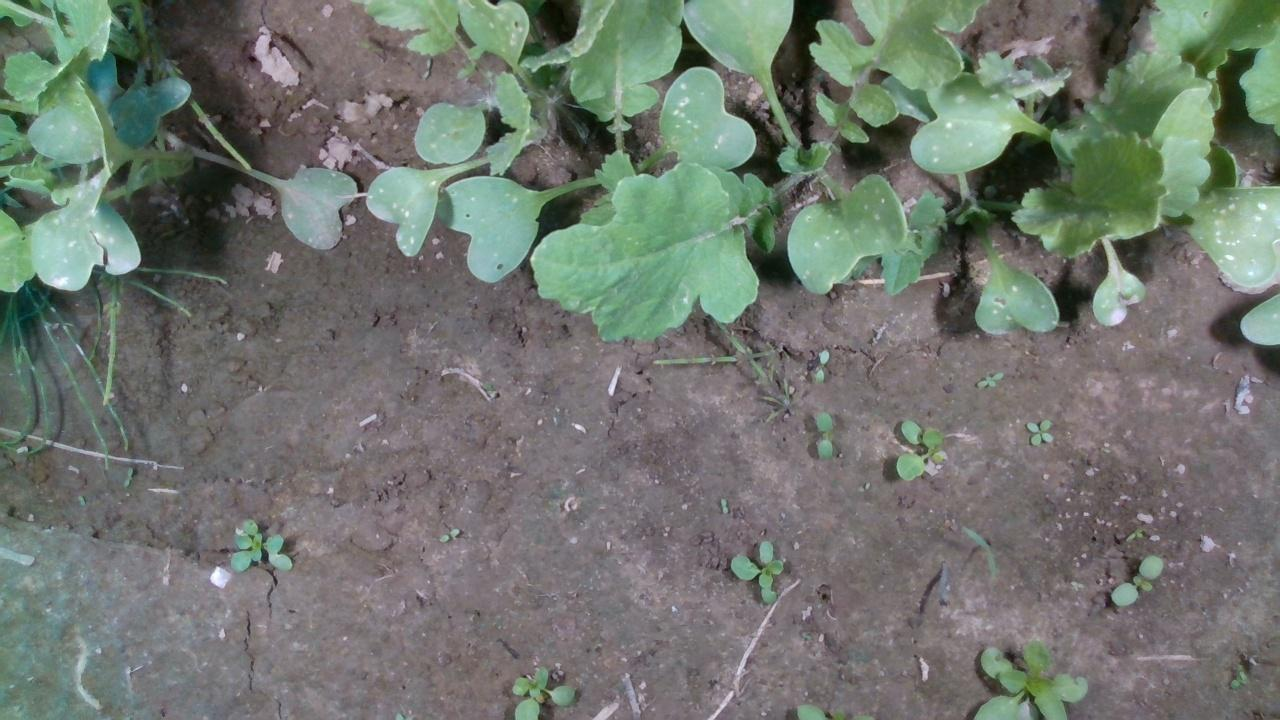weed: (1111, 553, 1165, 607), (814, 409, 832, 458), (1023, 417, 1054, 445), (813, 346, 829, 384), (974, 370, 1004, 388), (437, 525, 459, 542), (719, 495, 728, 515)
